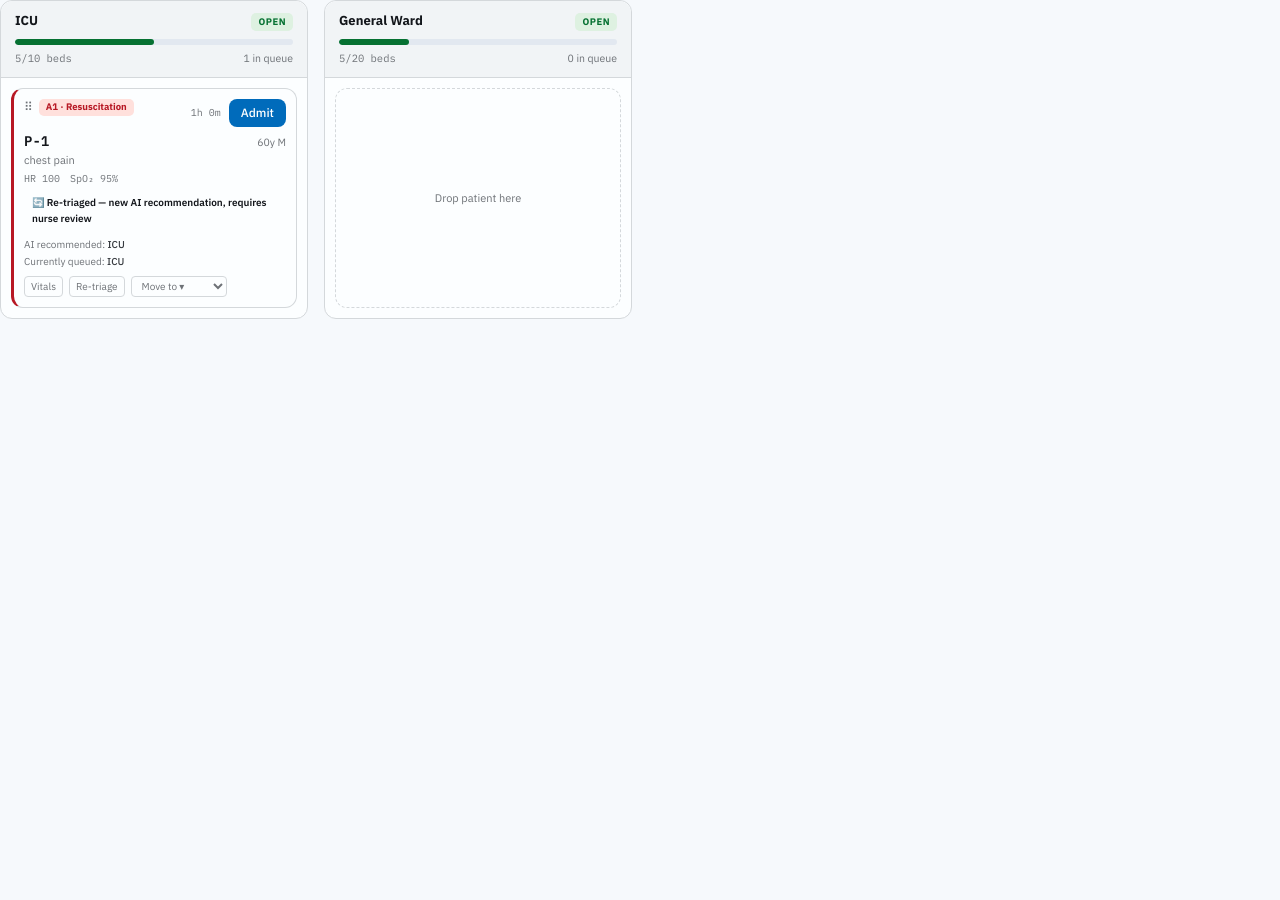
Scenario: DepartmentQueueBoard › opens the retriage detail modal from the re-triage badge
The image size is (1280, 900).
Click the button "🔄 Re-triaged — new AI recommendation, requires nurse review" at x=155, y=211, box [24,191,286,232]
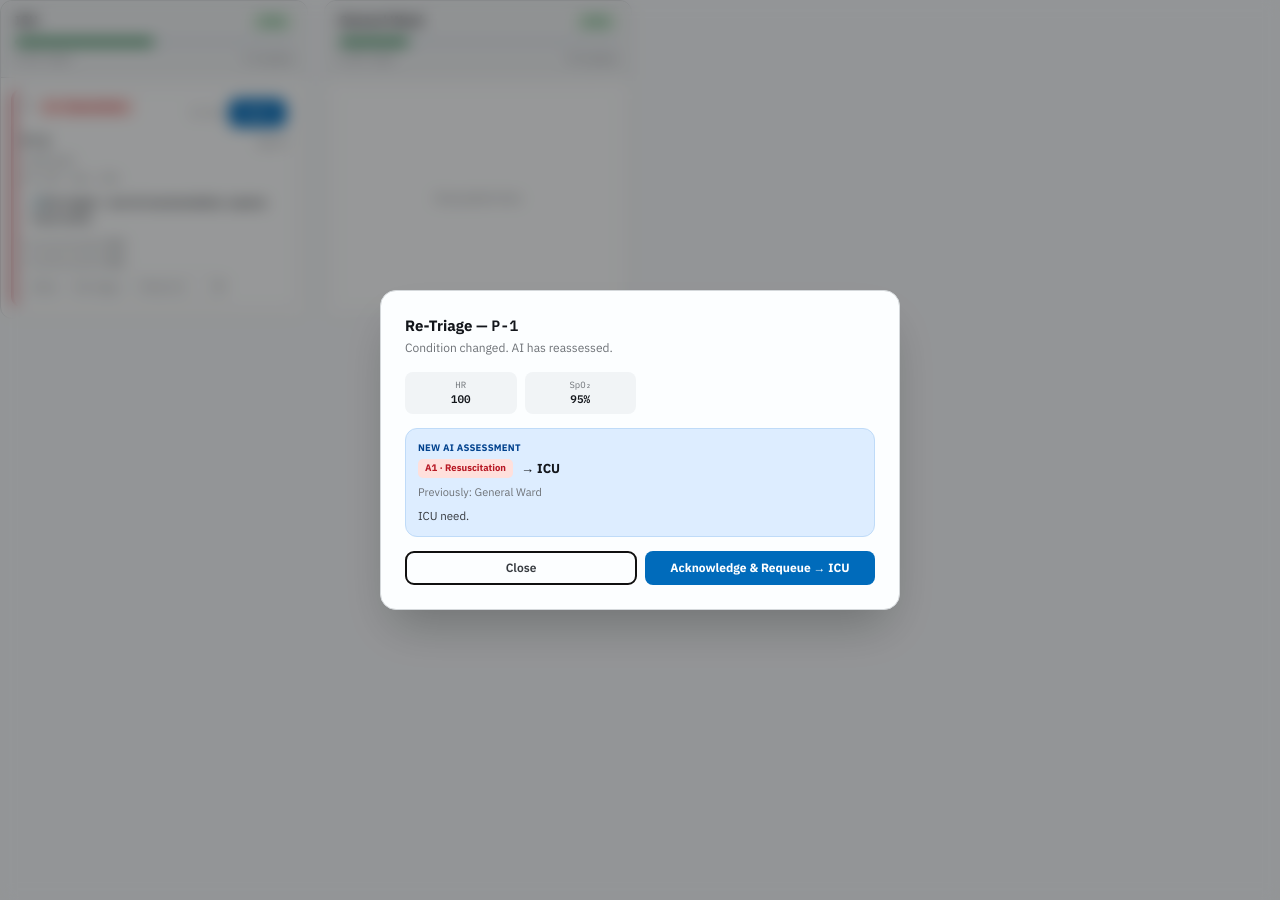
Check: the text "Re-Triage — P-1" is shown, box [405,316,518,335]
Check: the text "P-1" is shown, box [491,316,518,335]
